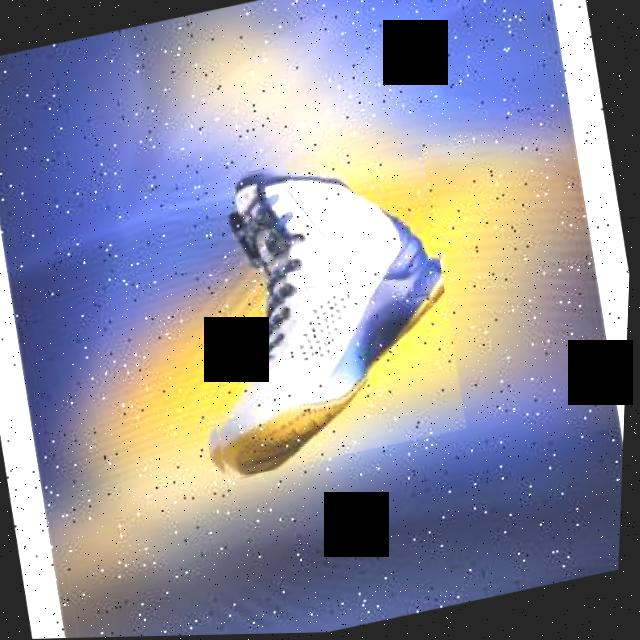shoe: (161, 134, 478, 484)
